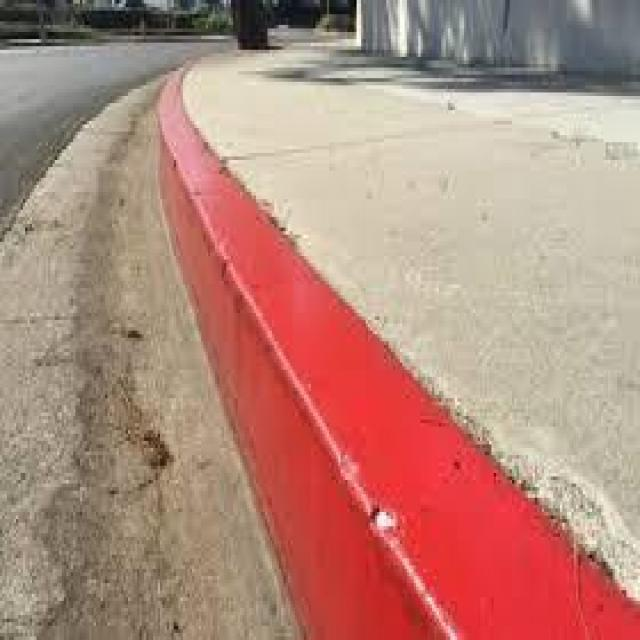curb: (223, 248, 499, 498), (260, 478, 640, 640), (138, 146, 301, 313), (150, 82, 213, 158)
